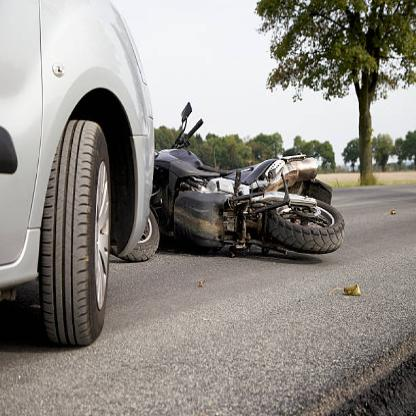bike: (157, 128, 344, 267)
car: (2, 0, 159, 336)
